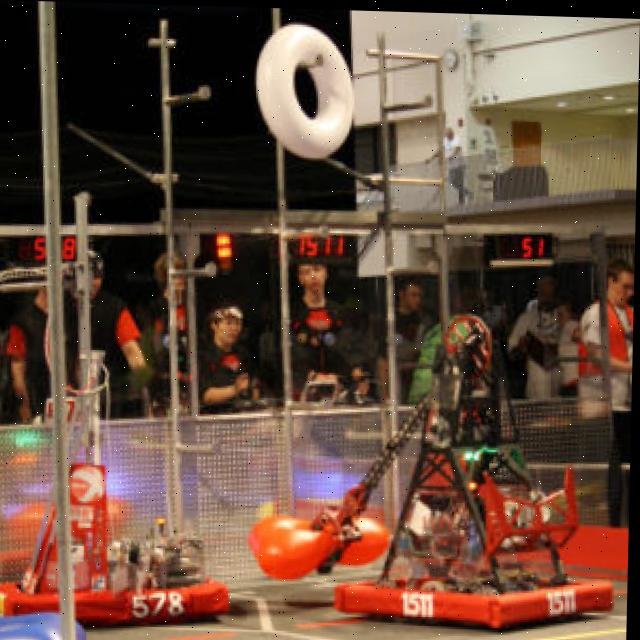robot: (326, 306, 620, 630), (0, 239, 243, 625)
